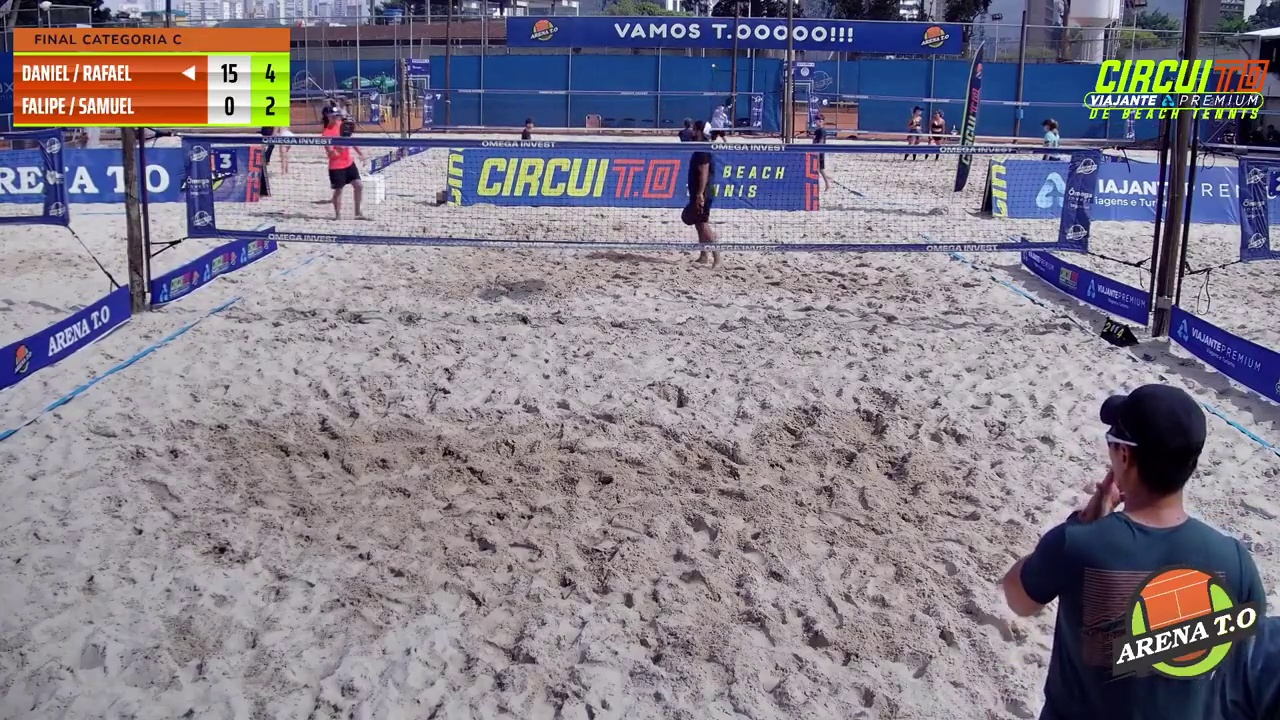court_line: (644, 0, 803, 354)
